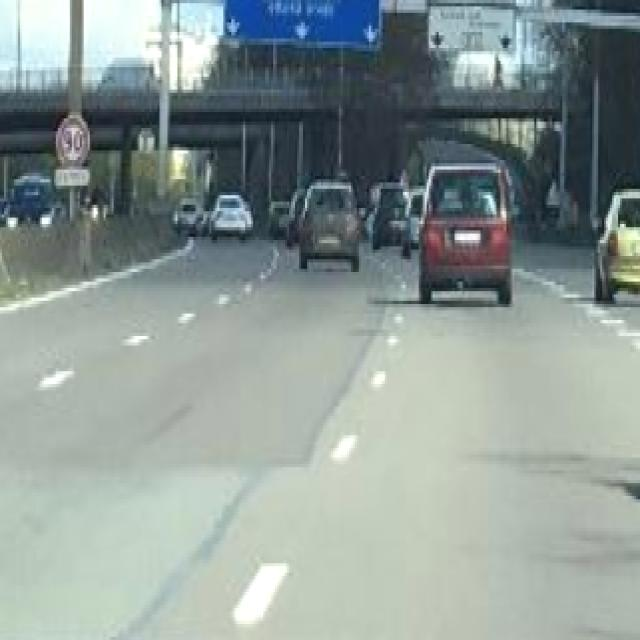speed_90: (57, 116, 88, 166)
